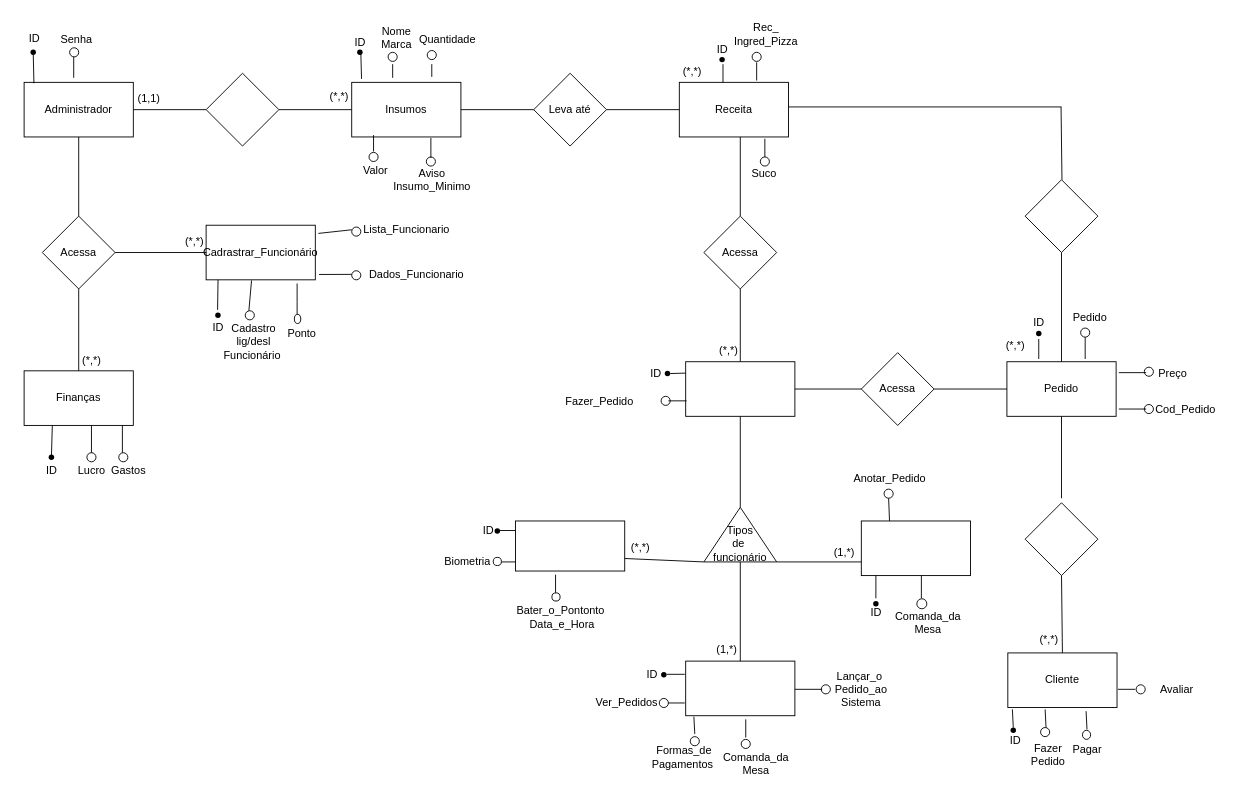
This 1249x797 diagram has some shape labels left out. The centre of each missing label's shape, as x and y in pixels:
Cadastro: pixel 242 109
Caixa: pixel 740 688
Cozinheiro: pixel 740 388
Efetuado Pelo: pixel 1061 539
Funcionário: pixel 570 545
Garçom: pixel 915 548
Relaciona com: pixel 1061 216
